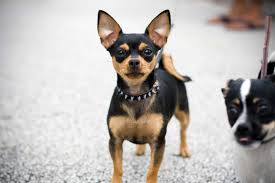chihuahua: (86, 5, 199, 179)
